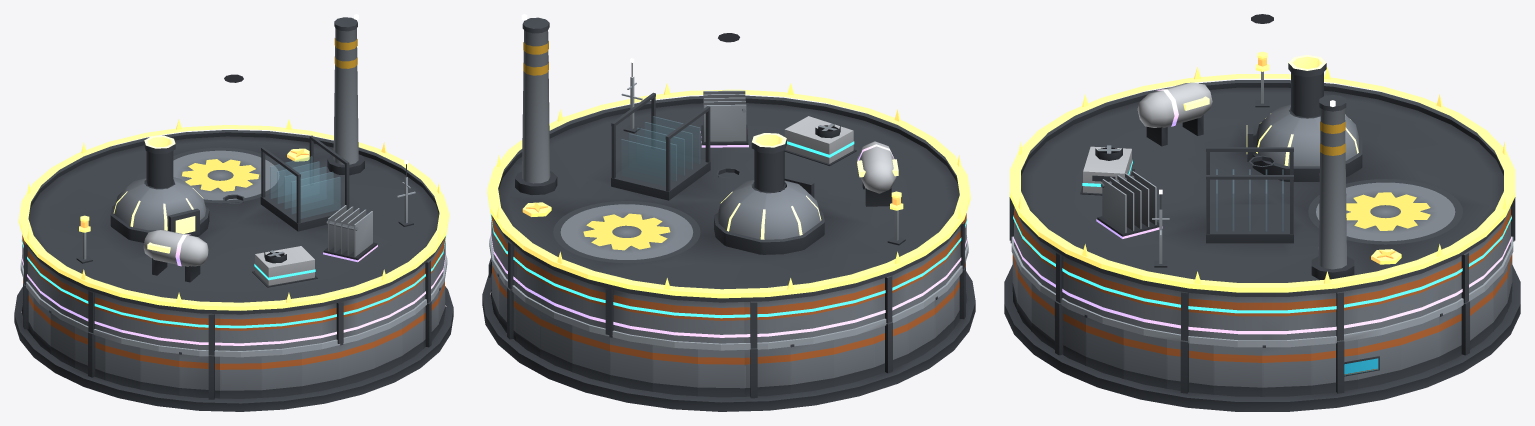
File: glassworks_s.glb
The picture shows the model from 3 angles, left to right: view 1: azimuth 30°, elevation 25°; view 2: azimuth 150°, elevation 25°; view 3: azimuth 270°, elevation 25°; orthographic projection. The views are drawn at different scales.
Visible parts, largest first — view 1: Roof, Base, L4, L3, Wall_21, Wall_20, Wall_22, Wall_19, Wall_23, Wall_18, Wall_24, Upper_20 (+27 smaller); view 2: Roof, Base, L4, L3, Wall_11, Wall_10, Wall_09, Wall_12, Wall_08, Wall_13, Upper_11, Wall_07 (+31 smaller); view 3: Roof, Base, L4, Wall_00, Wall_31, Wall_30, Wall_29, Wall_01, L3, Wall_28, Upper_00, Upper_31 (+33 smaller).
Part boxes in pixels (box(x1,y1,x2,y2)): Roof: box(25, 14, 444, 314); Base: box(14, 286, 453, 411); L4: box(143, 205, 377, 282); L3: box(223, 194, 317, 287); Wall_21: box(220, 356, 261, 398); Wall_20: box(179, 352, 219, 399); Wall_22: box(261, 352, 301, 397); Wall_19: box(140, 348, 179, 395); Wall_23: box(302, 345, 339, 393); Wall_18: box(105, 338, 140, 389); Wall_24: box(339, 335, 373, 386); Upper_20: box(179, 311, 220, 355); Roof: box(492, 14, 962, 302); Base: box(482, 271, 975, 411); L4: box(700, 90, 898, 206); L3: box(716, 116, 856, 178); Wall_11: box(744, 346, 790, 398); Wall_10: box(698, 349, 744, 397); Wall_09: box(652, 345, 697, 396); Wall_12: box(790, 340, 833, 393); Wall_08: box(609, 335, 652, 391); Wall_13: box(834, 329, 873, 386); Upper_11: box(744, 299, 790, 348); Wall_07: box(572, 325, 609, 383); Roof: box(1019, 14, 1505, 296); Base: box(1004, 265, 1520, 411); L4: box(1096, 82, 1212, 238); Wall_00: box(1262, 345, 1311, 396); Wall_31: box(1213, 345, 1262, 396); Wall_30: box(1166, 339, 1213, 394); Wall_29: box(1123, 330, 1166, 388); Wall_01: box(1311, 339, 1357, 394); L3: box(1080, 145, 1275, 195); Wall_28: box(1084, 314, 1123, 378); Upper_00: box(1262, 295, 1310, 340); Upper_31: box(1214, 295, 1262, 340).
Bounding box in the file's own units: 11.74 × 7.29 × 11.74.
